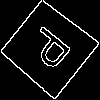P: (24, 23, 81, 78)
